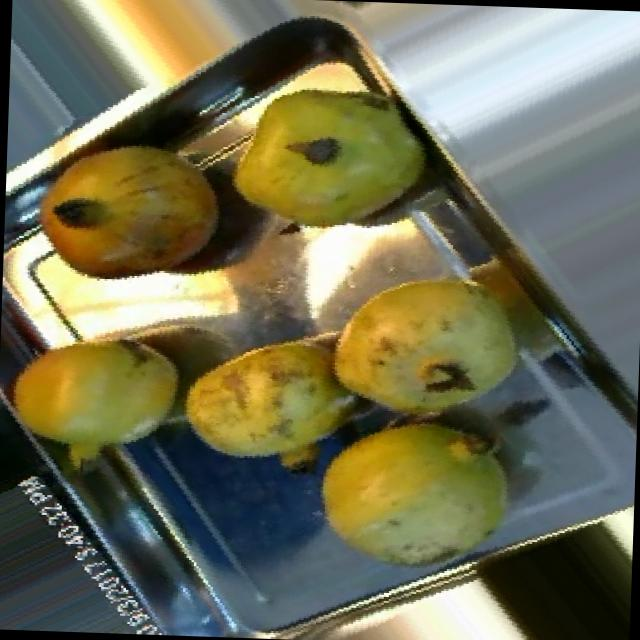fruit: (200, 38, 452, 266), (288, 393, 538, 590), (13, 115, 245, 304), (306, 248, 528, 433), (0, 312, 196, 473), (166, 323, 359, 485)
